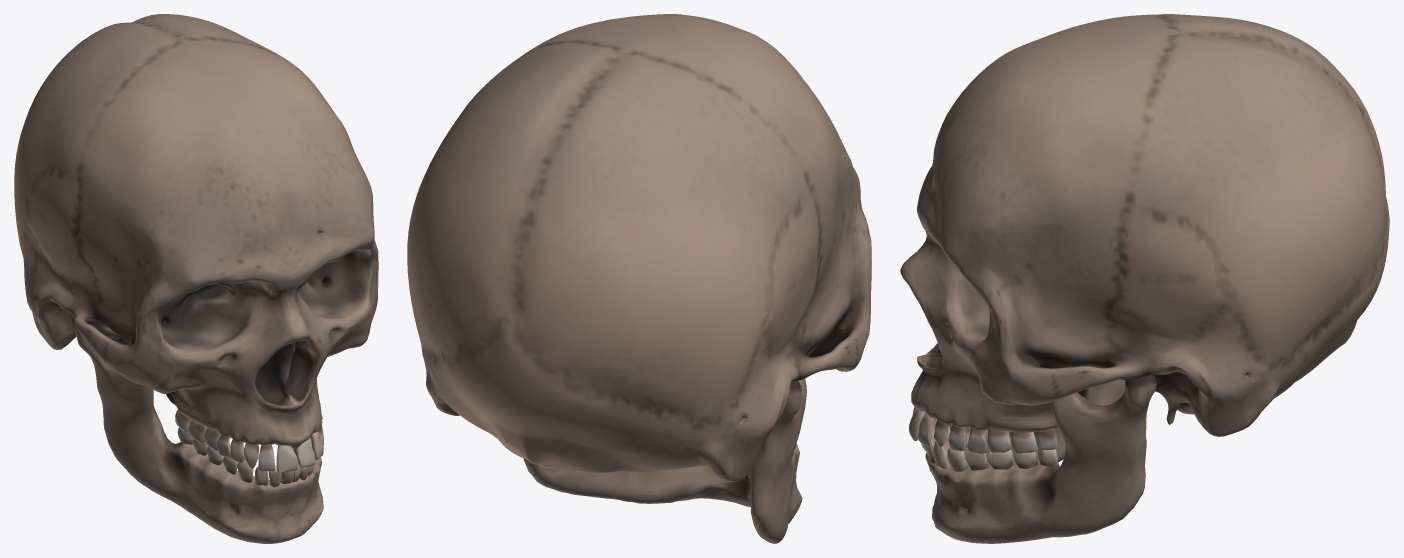
Rendered from SkullModel.fbx.
3 renders of one model, left to right at view 1: azimuth 30°, elevation 25°; view 2: azimuth 150°, elevation 25°; view 3: azimuth 270°, elevation 25°, orthographic. The views are drawn at different scales.
Parts seen in each view (by area): view 1: Object_2; view 2: Object_2; view 3: Object_2.
Boxes of the visible parts, x1,y1,x2,y2 form: Object_2: (14,14,378,543); Object_2: (407,14,871,543); Object_2: (900,14,1389,543).
Size of the model in its own units: 134 by 200 by 179.
